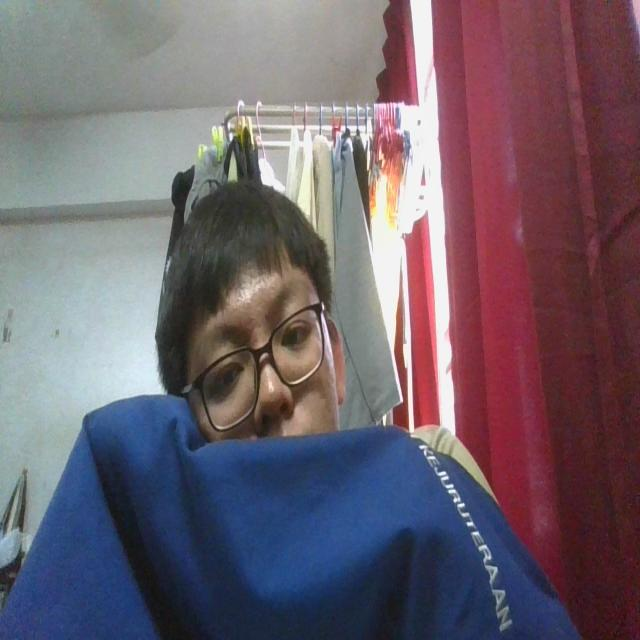person_without_labcoat: (0, 181, 581, 639)
